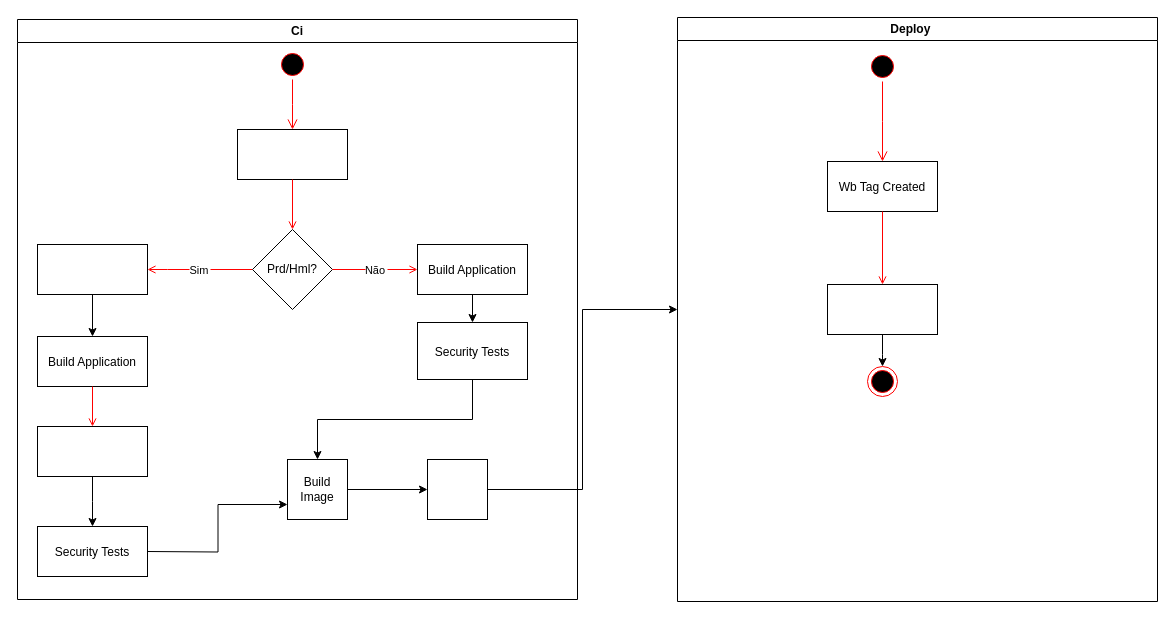
Some shapes in this 1175 by 619 pixel diagram are drawn without their labels. The centre of each missing label's shape, as x and y in pixels:
Deploy Cloud: the point at 882,309
Generate Tag: the point at 457,489
Merge Request: the point at 292,154
Package: the point at 92,269
Unit Tests: the point at 92,451
